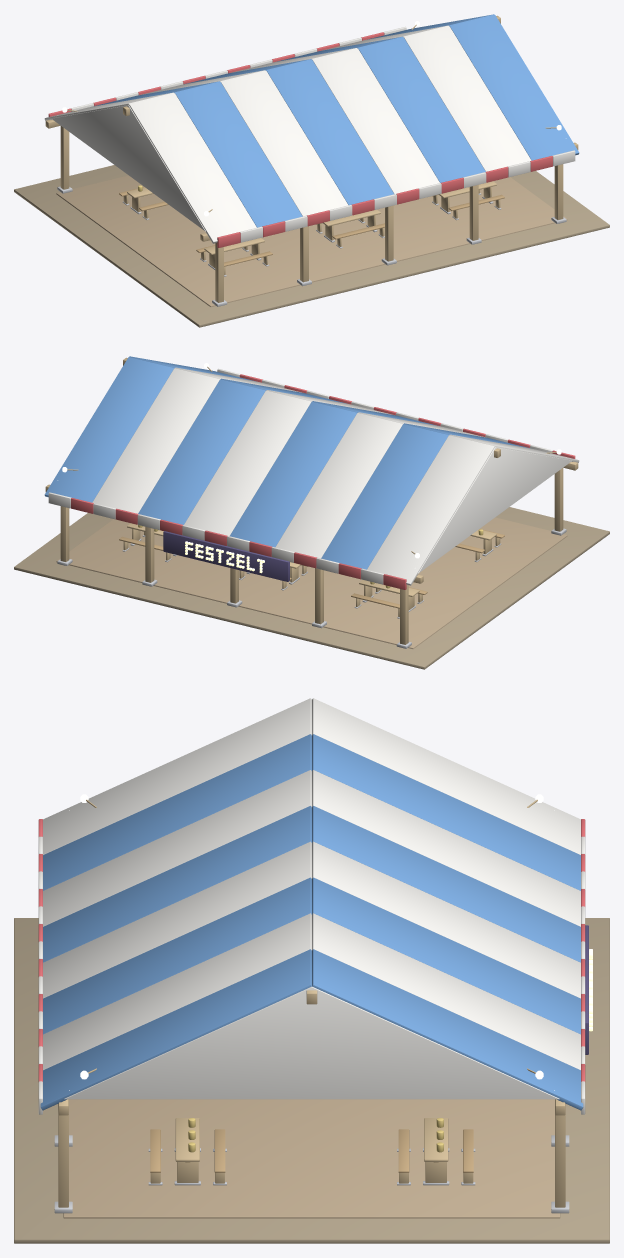
The model's file is th13_festzelt.glb.
The picture shows the model from 3 angles, top to bottom: view 1: azimuth 30°, elevation 25°; view 2: azimuth 150°, elevation 25°; view 3: azimuth 270°, elevation 25°; orthographic projection. The views are drawn at different scales.
Parts seen in each view (by area): view 1: Cube.001, Cube, Cube.040, Cube.047, Cube.041, Cube.042, Cube.044, Cube.045, Cube.046, Cube.043, Giebel, Cube.004 (+6 smaller); view 2: Cube.001, Cube, Cube.048, Cube.055, Cube.049, Cube.050, Cube.052, Cube.053, Cube.054, Cube.051, Giebel, Cube.162 (+6 smaller); view 3: Cube.001, Cube, Giebel.001, Cube.047, Cube.055, Cube.046, Cube.054, Cube.044, Cube.045, Cube.052, Cube.053, Cube.041 (+11 smaller).
Boxes of the visible parts, box(x1,y1,x2,y2) form: Cube.001: box(56, 175, 567, 306); Cube: box(14, 165, 609, 327); Cube.040: box(129, 93, 256, 243); Cube.047: box(450, 15, 579, 160); Cube.041: box(175, 82, 302, 227); Cube.042: box(221, 71, 348, 216); Cube.044: box(312, 48, 439, 193); Cube.045: box(358, 37, 485, 182); Cube.046: box(404, 26, 531, 171); Cube.043: box(267, 59, 393, 205); Giebel: box(51, 105, 205, 231); Cube.004: box(60, 126, 69, 189); Cube.001: box(56, 517, 567, 648); Cube: box(14, 507, 609, 669); Cube.048: box(367, 435, 494, 585); Cube.055: box(44, 357, 173, 502); Cube.049: box(321, 424, 448, 569); Cube.050: box(275, 413, 402, 558); Cube.052: box(184, 390, 311, 535); Cube.053: box(138, 379, 265, 524); Cube.054: box(92, 368, 219, 513); Cube.051: box(230, 401, 356, 547); Giebel: box(418, 447, 572, 573); Cube.162: box(163, 531, 289, 581); Cube.001: box(63, 1099, 560, 1218); Cube: box(14, 918, 609, 1243); Giebel.001: box(64, 986, 559, 1099); Cube.047: box(40, 949, 311, 1110); Cube.055: box(312, 949, 583, 1110); Cube.046: box(43, 913, 311, 1070); Cube.054: box(312, 913, 580, 1070); Cube.044: box(43, 841, 311, 998); Cube.045: box(43, 877, 311, 1034); Cube.052: box(312, 841, 580, 998); Cube.053: box(312, 877, 580, 1034); Cube.041: box(43, 734, 311, 890).
Bounding box in the file's own units: 18.4 × 6.45 × 14.4.
